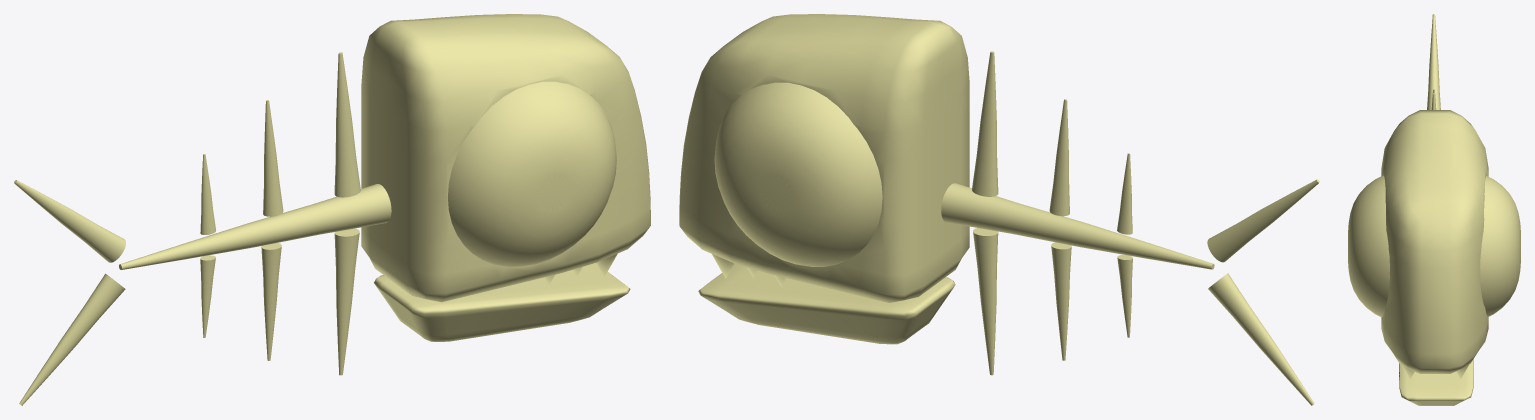
Rendered from SkeletonFish.fbx.
The picture shows the model from 3 angles, left to right: view 1: azimuth 30°, elevation 25°; view 2: azimuth 150°, elevation 25°; view 3: azimuth 270°, elevation 25°; orthographic projection. The views are drawn at different scales.
Parts seen in each view (by area): view 1: polySurface25, polySurface24, pCube8, pCylinder8, pCylinder16, pCylinder9, pCylinder10, pCylinder15, pCylinder13, pCylinder11, pCylinder14, pCylinder12; view 2: polySurface25, polySurface24, pCube8, pCylinder8, pCylinder16, pCylinder9, pCylinder10, pCylinder15, pCylinder11, pCylinder13, pCylinder12, pCylinder14; view 3: polySurface25, polySurface24, pCube8, pCylinder15.
Boxes of the visible parts, <box> form: polySurface25: <box>361,14,650,302</box>; polySurface24: <box>448,81,616,266</box>; pCube8: <box>374,263,630,341</box>; pCylinder8: <box>119,184,391,269</box>; pCylinder16: <box>19,273,125,405</box>; pCylinder9: <box>334,52,360,197</box>; pCylinder10: <box>334,228,359,375</box>; pCylinder15: <box>14,180,125,262</box>; pCylinder13: <box>261,243,281,360</box>; pCylinder11: <box>263,100,283,216</box>; pCylinder14: <box>200,255,215,337</box>; pCylinder12: <box>200,154,215,234</box>; polySurface25: <box>679,14,969,302</box>; polySurface24: <box>714,82,882,266</box>; pCube8: <box>698,263,955,344</box>; pCylinder8: <box>941,183,1214,269</box>; pCylinder16: <box>1208,273,1314,405</box>; pCylinder9: <box>972,51,998,196</box>; pCylinder10: <box>973,228,998,375</box>; pCylinder15: <box>1207,179,1319,262</box>; pCylinder11: <box>1049,99,1069,216</box>; pCylinder13: <box>1051,242,1071,360</box>; pCylinder12: <box>1117,153,1132,234</box>; pCylinder14: <box>1117,255,1132,337</box>; polySurface25: <box>1381,110,1488,373</box>; polySurface24: <box>1348,175,1520,317</box>; pCube8: <box>1399,359,1473,405</box>; pCylinder15: <box>1427,14,1440,109</box>.
Bounding box in the file's own units: 3.67 × 1.83 × 1.2.
